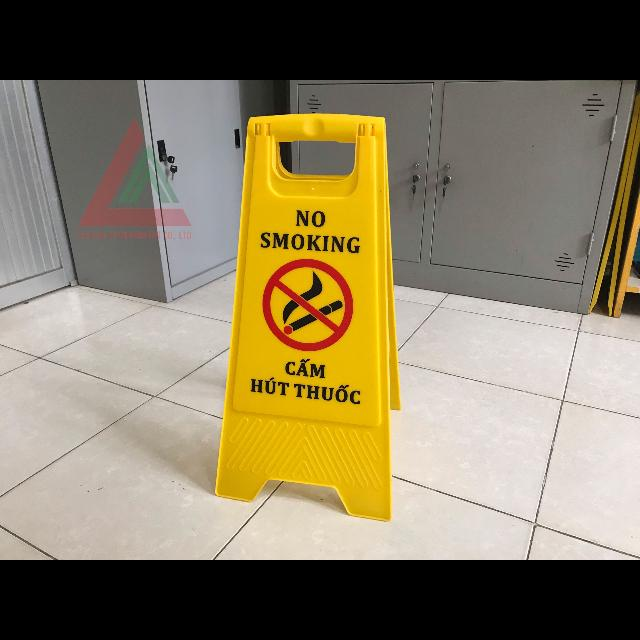cam hut thuoc: (216, 114, 399, 519)
